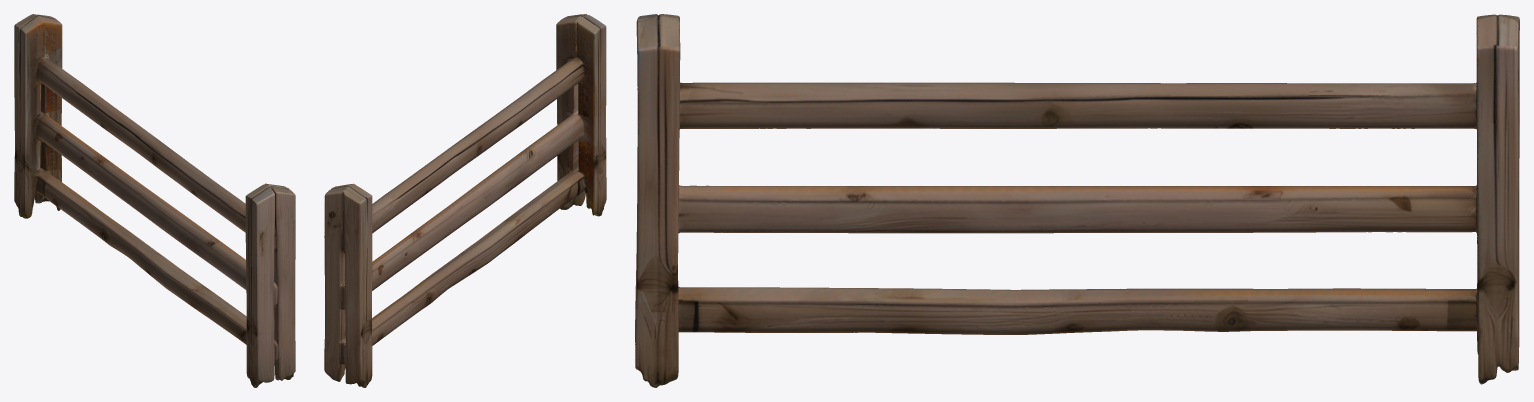
Rendered from farm-fence.glb.
3 views of the same model, side by side, from view 1: azimuth 30°, elevation 25°; view 2: azimuth 150°, elevation 25°; view 3: azimuth 270°, elevation 25° (orthographic). The views are drawn at different scales.
Visible parts, largest first — view 1: tripo_node_b9b378db-76cd-4070-8fcd-8772381361ab; view 2: tripo_node_b9b378db-76cd-4070-8fcd-8772381361ab; view 3: tripo_node_b9b378db-76cd-4070-8fcd-8772381361ab.
Part boxes in pixels (left/top/right/bottom): tripo_node_b9b378db-76cd-4070-8fcd-8772381361ab: left=14, top=14, right=295, bottom=387; tripo_node_b9b378db-76cd-4070-8fcd-8772381361ab: left=324, top=14, right=606, bottom=387; tripo_node_b9b378db-76cd-4070-8fcd-8772381361ab: left=635, top=14, right=1519, bottom=387.
Bounding box in the file's own units: 0.0931 × 0.4447 × 1.
1 material, 1 textured.
